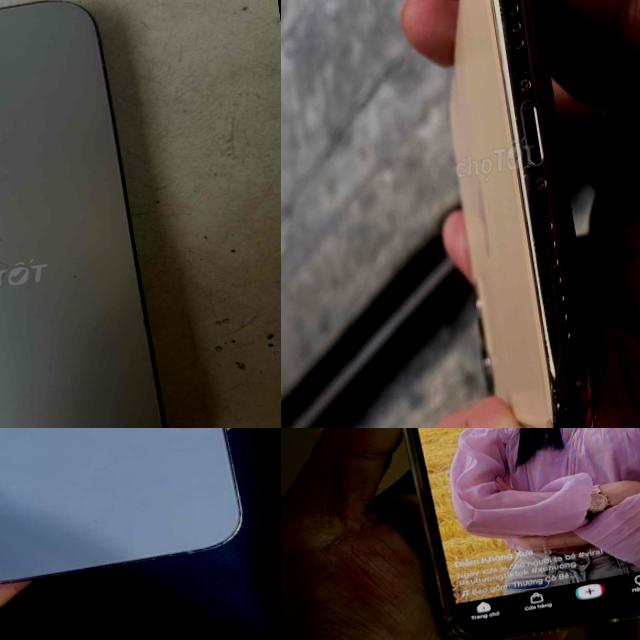gen_11: (402, 0, 634, 428)
gen_12_13: (0, 428, 254, 595)
gen_15: (0, 0, 200, 428), (339, 428, 640, 640)
scratch: (509, 106, 607, 428), (479, 0, 556, 106)
